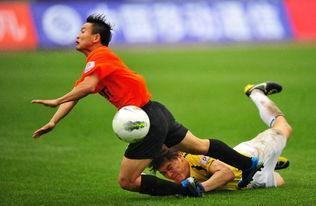Fall-Detected: (141, 71, 302, 197)
